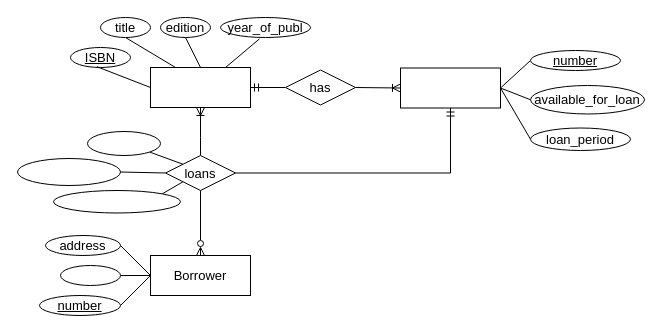
The diagram is 662 pixels wide and 333 high, and some of its shapes have lost their labels. Each missing label, with the centre of its shape:
"Book" goes at pixel 200 87.
"Book_Copy" goes at pixel 450 87.
"date_out" goes at pixel 123 143.
"date_returned" goes at pixel 68 172.
"load_number" goes at pixel 116 201.
"name" goes at pixel 90 275.
